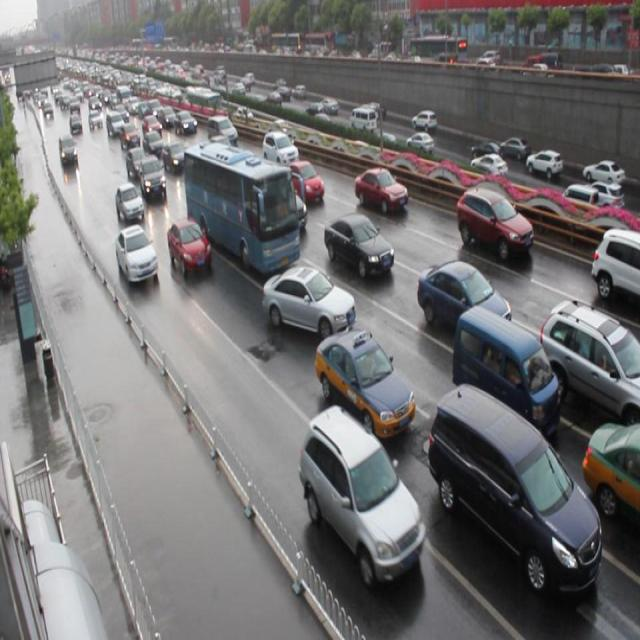car: (299, 402, 426, 585), (535, 296, 640, 432), (310, 322, 409, 435), (416, 260, 510, 336), (261, 265, 354, 338), (578, 418, 640, 526), (454, 184, 533, 262), (324, 211, 394, 277), (589, 224, 640, 303), (353, 164, 408, 215), (115, 223, 158, 284), (167, 216, 211, 274), (286, 160, 324, 204), (261, 128, 299, 171), (139, 154, 167, 198), (115, 182, 144, 222)
truck: (421, 380, 594, 586), (451, 303, 559, 427), (207, 112, 238, 145)
van: (178, 134, 294, 268)
